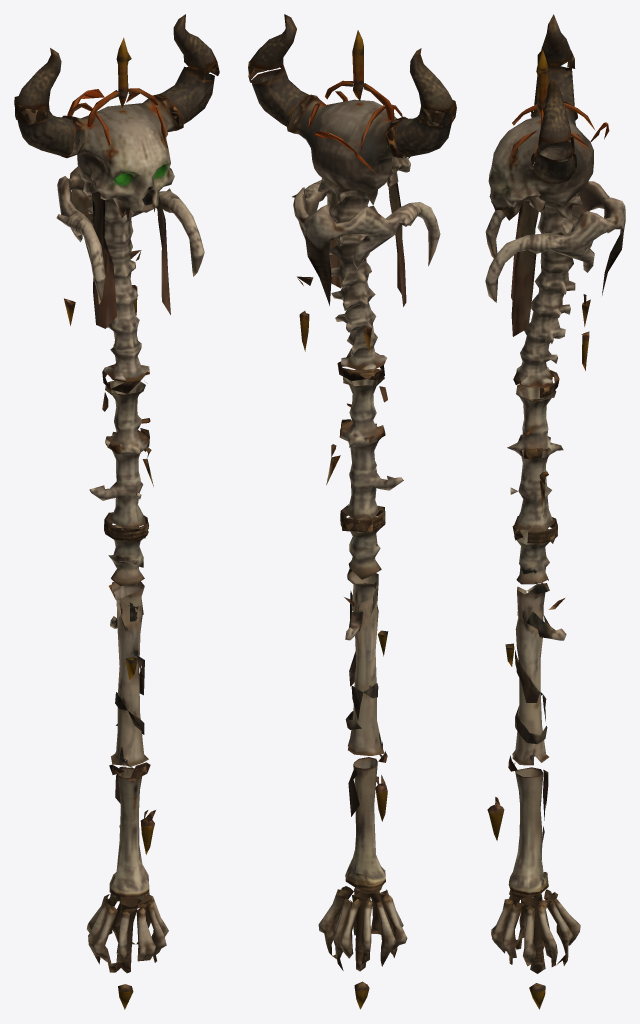
File: game.glb
3 views of the same model, side by side, from view 1: azimuth 30°, elevation 25°; view 2: azimuth 150°, elevation 25°; view 3: azimuth 270°, elevation 25° (orthographic). The views are drawn at different scales.
Parts seen in each view (by area): view 1: geometry_0; view 2: geometry_0; view 3: geometry_0.
Part boxes in pixels (bbox=[...]): geometry_0: bbox=[14, 14, 219, 1009]; geometry_0: bbox=[248, 14, 456, 1009]; geometry_0: bbox=[485, 14, 625, 1009].
Size of the model in its own units: 0.2147 by 0.9927 by 0.131.
1 material, 1 textured.
